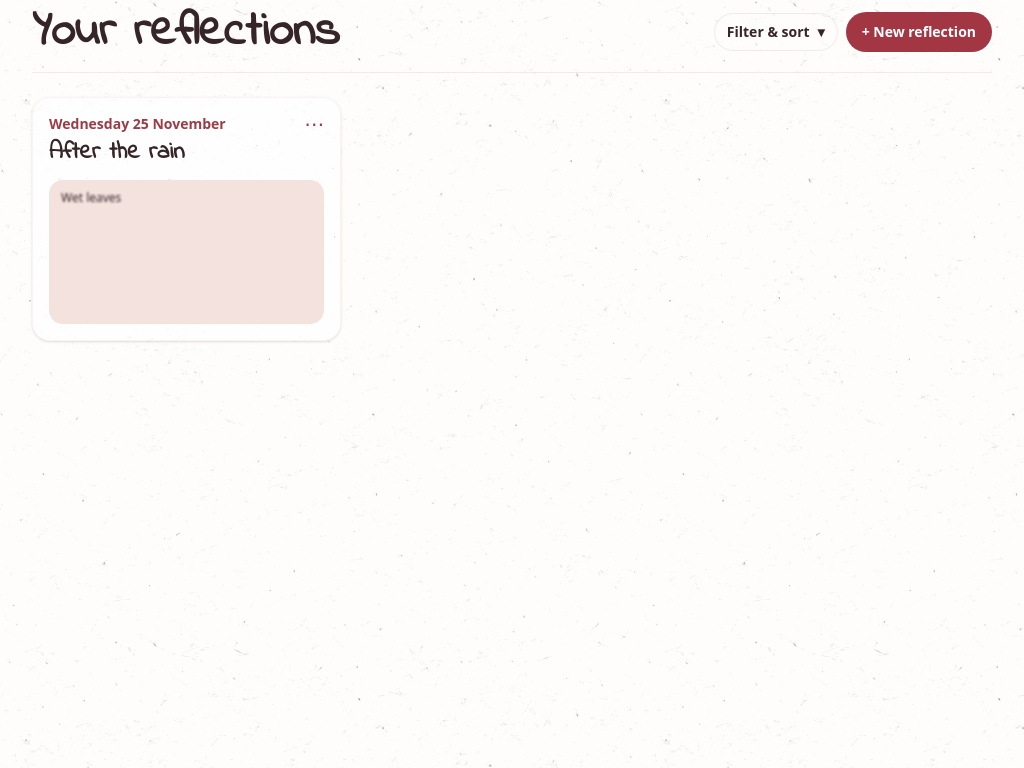
Test: reflection deletion › queues a confirmed offline deletion and retries it on reconnect
The width and height of the screenshot is (1024, 768).
Click the heading named "Actions for After the rain" at (314, 124), box [304,110,324,137]
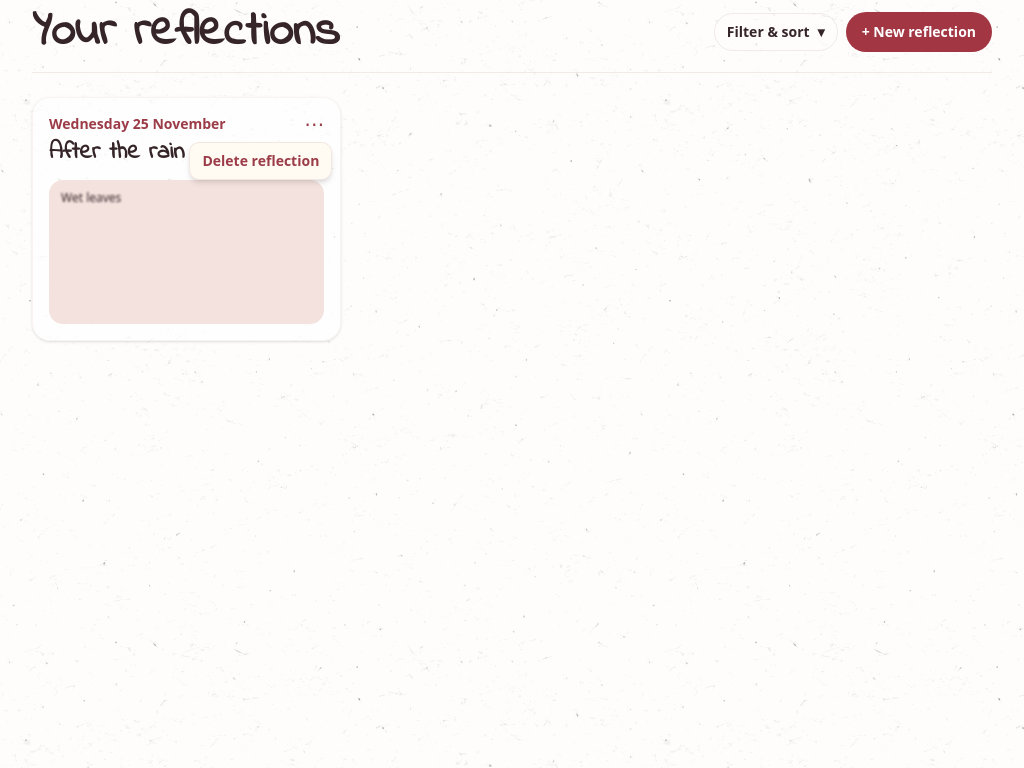
Click the button "Delete reflection" at (261, 161), box [189,142,332,180]
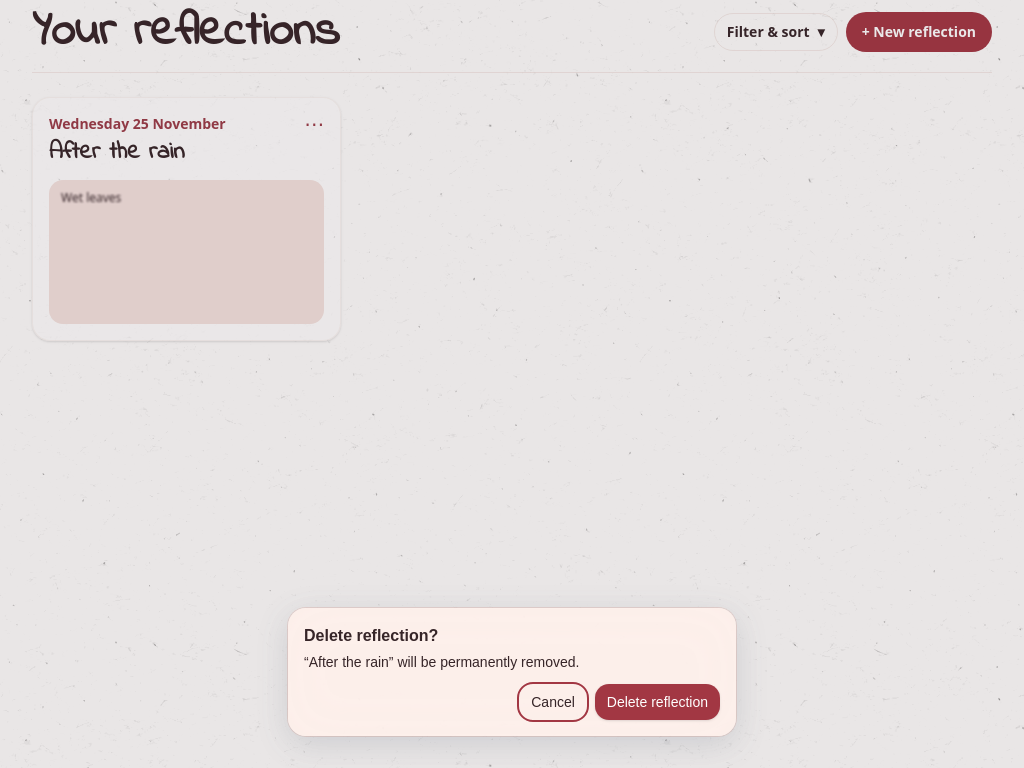
Click the button "Delete reflection" at (657, 702), box [595,684,720,720]
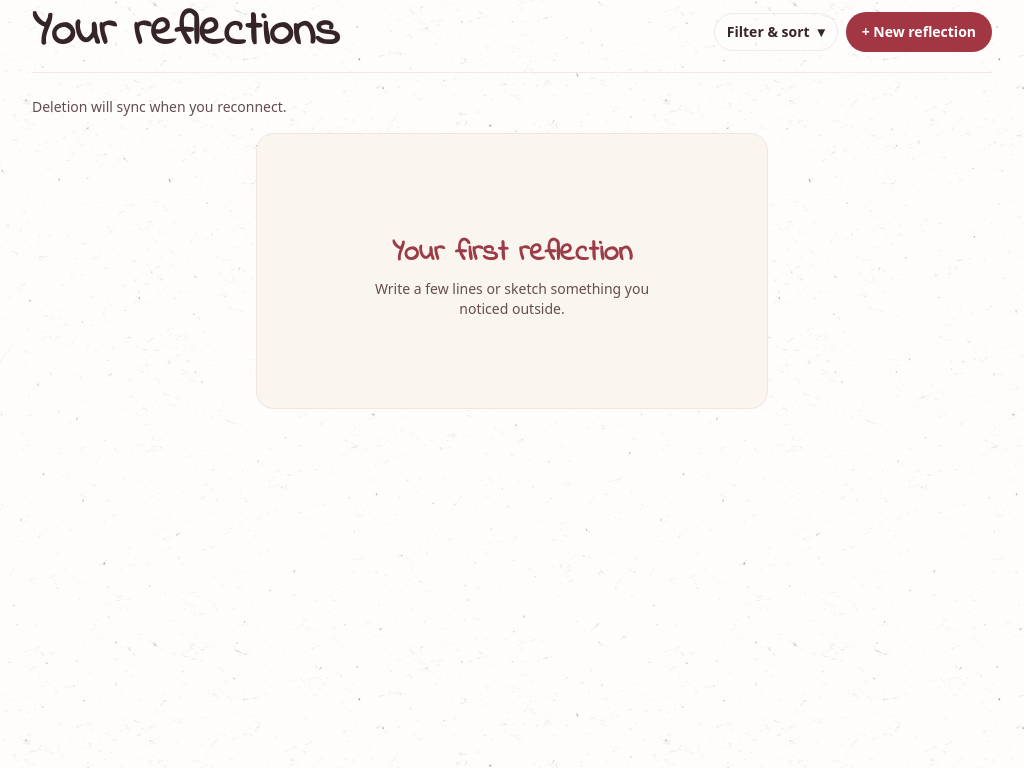
Check: the text "Deletion will sync when you reconnect." is shown, box [32,97,286,116]
Check: the link "After the rain" is gone
